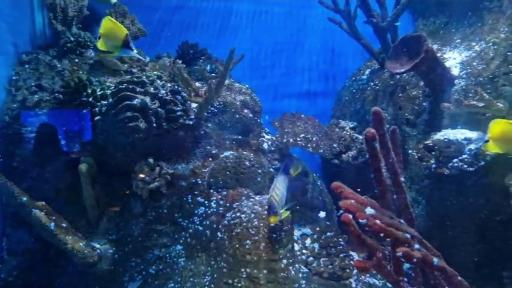Fish: (268, 160, 301, 225), (97, 16, 144, 59), (482, 119, 512, 153)
